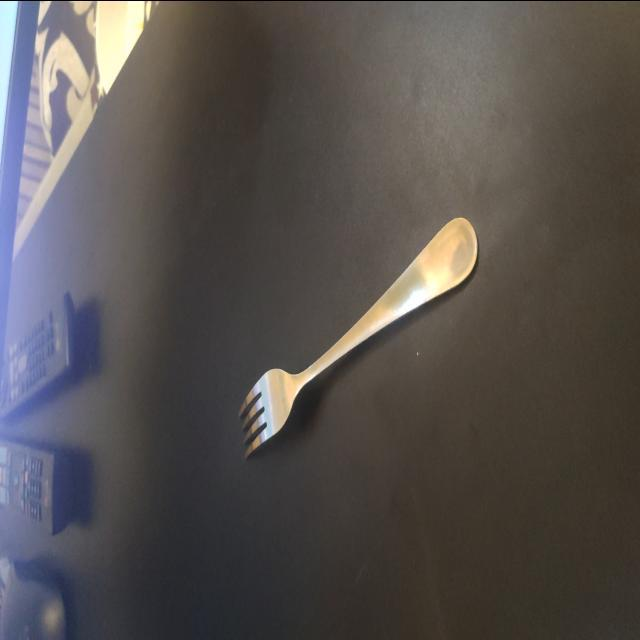plastic utensil: (239, 218, 478, 458)
